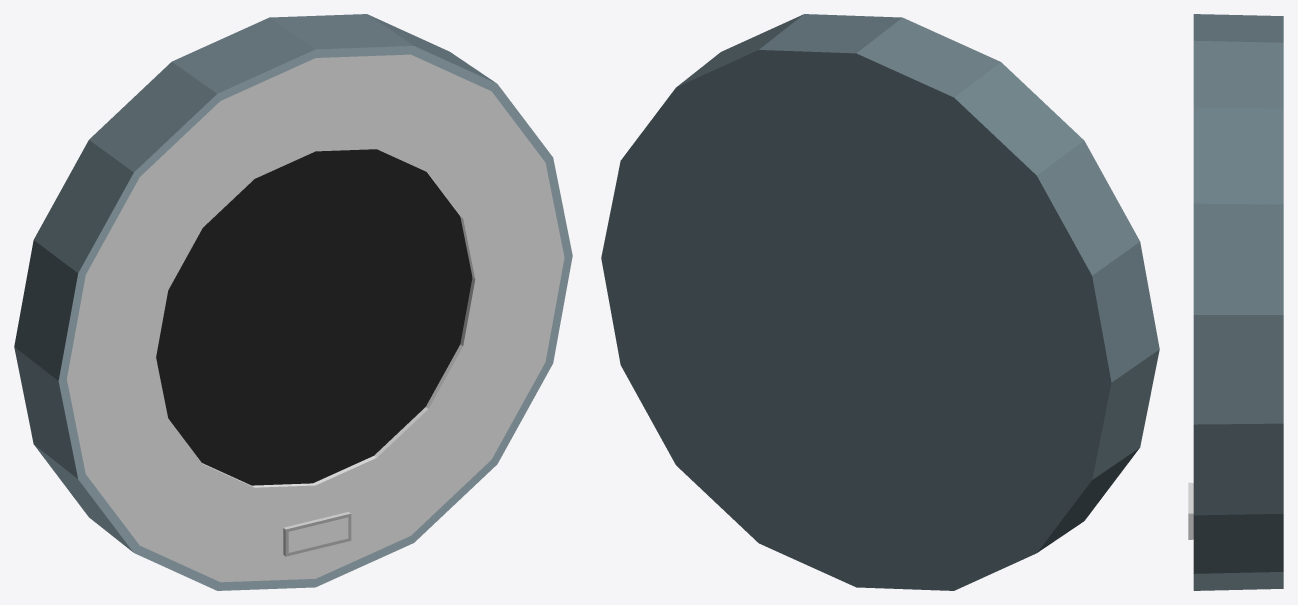
The model's file is ThermostatV2.fbx.
3 renders of one model, left to right at view 1: azimuth 30°, elevation 25°; view 2: azimuth 150°, elevation 25°; view 3: azimuth 270°, elevation 25°, orthographic. The views are drawn at different scales.
Visible parts, largest first — view 1: ThermostatV2; view 2: ThermostatV2; view 3: ThermostatV2.
Part boxes in pixels (left/top/right/bottom): ThermostatV2: left=14, top=14, right=572, bottom=590; ThermostatV2: left=601, top=14, right=1159, bottom=590; ThermostatV2: left=1188, top=14, right=1283, bottom=590.
Bounding box in the file's own units: 19.22 × 19.22 × 3.18.
